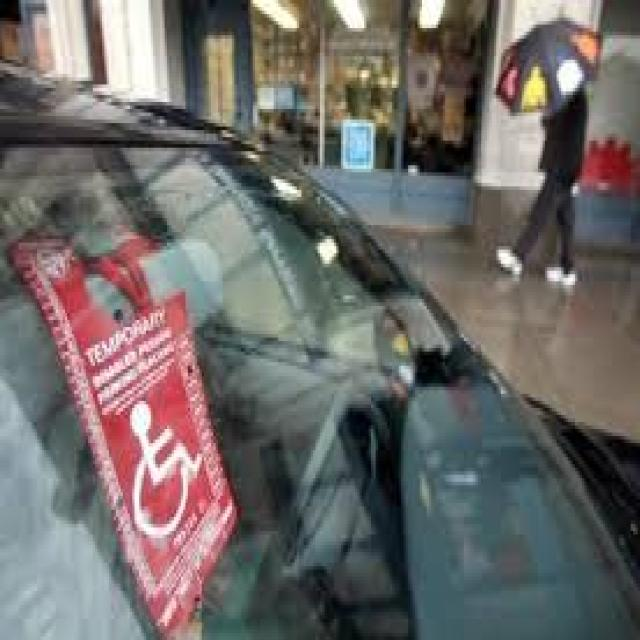car-handicap-placard: (116, 401, 212, 542)
